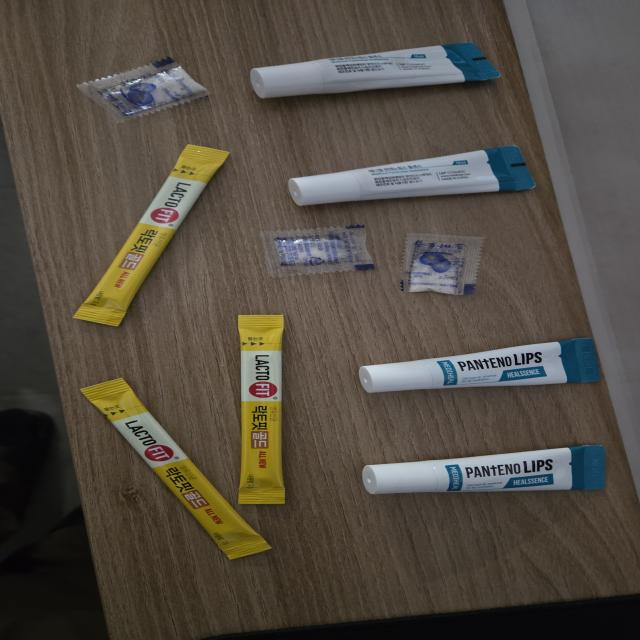lacto: (68, 375, 279, 565), (64, 140, 239, 333), (233, 310, 297, 507)
lip: (281, 139, 548, 214), (242, 34, 512, 106), (345, 333, 608, 405), (353, 436, 616, 506)
salt: (64, 50, 221, 135), (245, 218, 385, 290), (392, 230, 492, 302)
